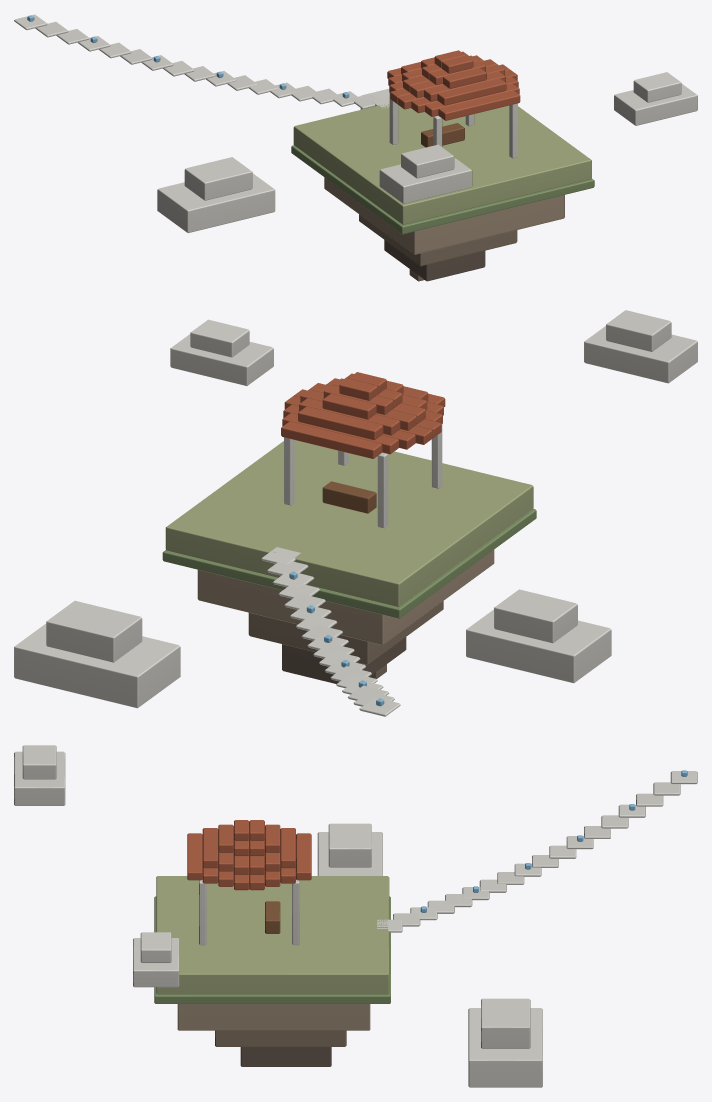
Rendered from region_27.glb.
3 renders of one model, top to bottom at view 1: azimuth 30°, elevation 25°; view 2: azimuth 150°, elevation 25°; view 3: azimuth 270°, elevation 25°, orthographic. The views are drawn at different scales.
Parts seen in each view (by area): view 1: region_27_static, region_27_clouds; view 2: region_27_static, region_27_clouds; view 3: region_27_static, region_27_clouds.
Boxes of the visible parts, x1,y1,x2,y2 form: region_27_static: [14, 14, 594, 281]; region_27_clouds: [157, 72, 697, 233]; region_27_static: [162, 372, 536, 716]; region_27_clouds: [14, 310, 697, 708]; region_27_static: [154, 771, 697, 1066]; region_27_clouds: [14, 745, 542, 1087].
Size of the model in its own units: 13.4 by 6.93 by 17.61.
